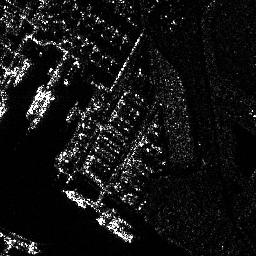ship: (1, 228, 44, 252), (97, 217, 132, 243), (12, 58, 31, 86), (62, 188, 86, 208), (65, 100, 79, 124)
